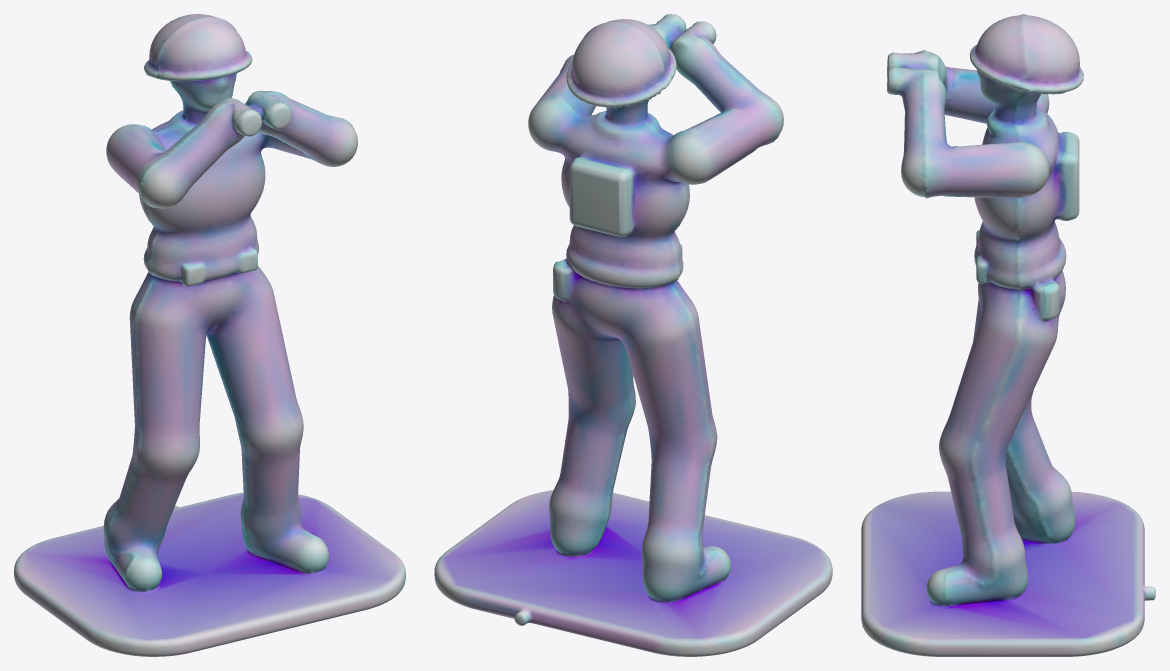
Rendered from marskal.glb.
The picture shows the model from 3 angles, left to right: view 1: azimuth 30°, elevation 25°; view 2: azimuth 150°, elevation 25°; view 3: azimuth 270°, elevation 25°; orthographic projection.
Visible parts, largest first — view 1: marskal; view 2: marskal; view 3: marskal.
Boxes of the visible parts, x1,y1,x2,y2 form: marskal: (14, 14, 405, 656); marskal: (434, 14, 832, 656); marskal: (861, 14, 1155, 656).
Bounding box in the file's own units: 0.46 × 0.7905 × 0.3739.
